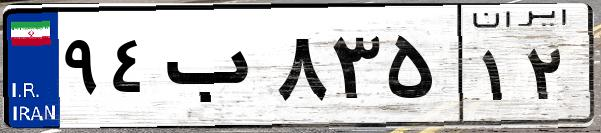1: (475, 38, 525, 113)
2: (525, 38, 570, 115)
3: (330, 28, 385, 110)
4: (110, 28, 158, 98)
5: (385, 28, 445, 110)
8: (270, 28, 330, 110)
9: (57, 26, 110, 100)
ب: (158, 20, 270, 120)
